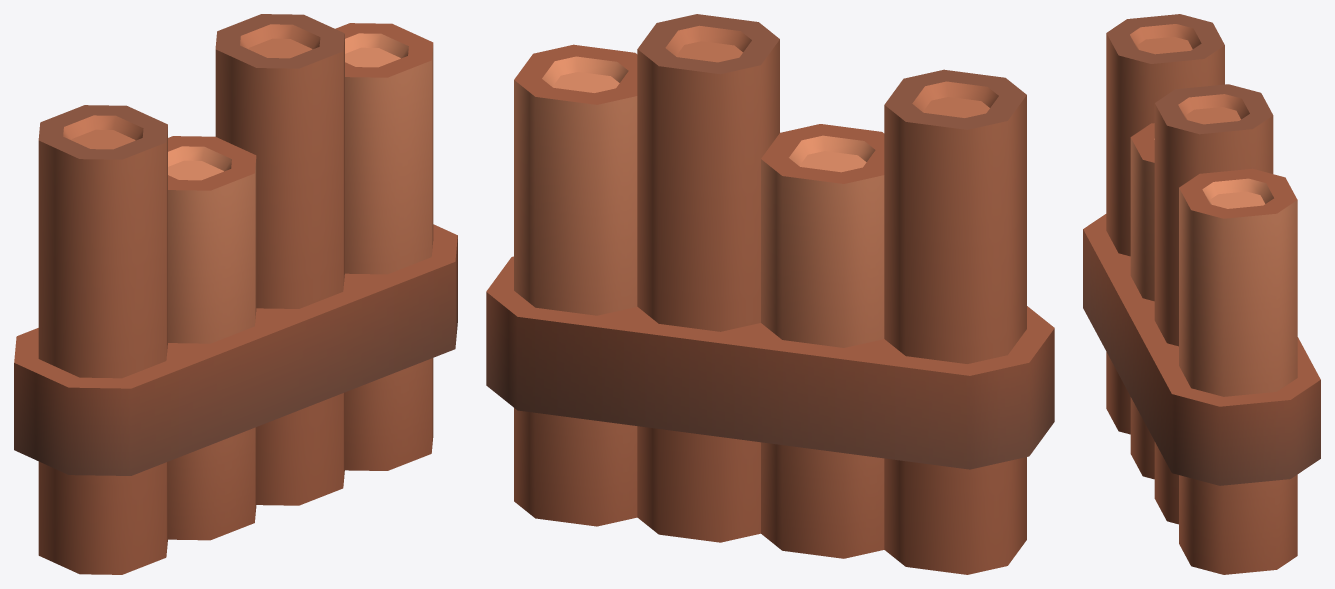
The model's file is n5_n5_poles_lev5.010.glb.
3 renders of one model, left to right at view 1: azimuth 30°, elevation 25°; view 2: azimuth 150°, elevation 25°; view 3: azimuth 270°, elevation 25°, orthographic. The views are drawn at different scales.
Visible parts, largest first — view 1: n5_n5_poles_lev5.010; view 2: n5_n5_poles_lev5.010; view 3: n5_n5_poles_lev5.010.
Part boxes in pixels (<box>): n5_n5_poles_lev5.010: <box>14,14,457,574</box>; n5_n5_poles_lev5.010: <box>486,14,1054,574</box>; n5_n5_poles_lev5.010: <box>1083,14,1320,574</box>.
Bounding box in the file's own units: 5.5 × 4.96 × 2.7.
Materials: 1 (1 with a texture image).
